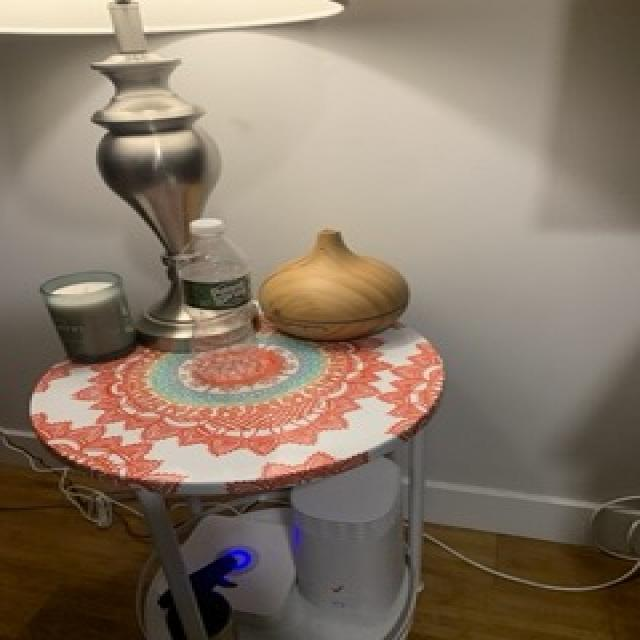water_bottle: (174, 216, 267, 386)
